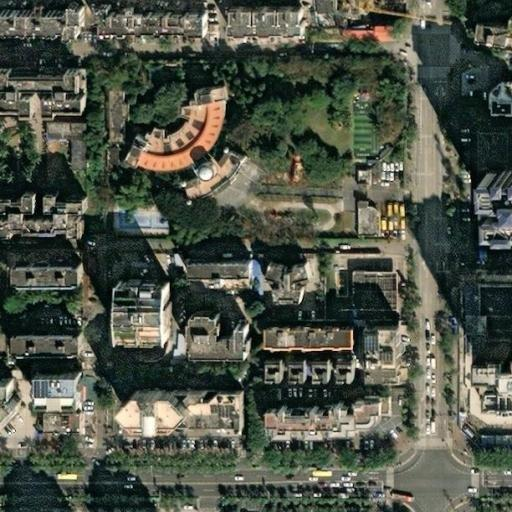building: (117, 86, 225, 167), (477, 288, 512, 413), (277, 408, 384, 446), (0, 186, 81, 235), (475, 134, 504, 248), (107, 281, 161, 342), (153, 399, 248, 432), (185, 152, 243, 206), (89, 5, 194, 32), (177, 311, 236, 354), (111, 394, 182, 429), (0, 4, 76, 36), (341, 273, 389, 316), (269, 333, 363, 354), (254, 260, 303, 300), (222, 7, 292, 34), (270, 367, 359, 387), (181, 260, 240, 286), (109, 206, 168, 232), (8, 261, 70, 283), (3, 334, 72, 353), (37, 378, 77, 410), (374, 333, 407, 371), (486, 349, 512, 397), (37, 123, 79, 139), (348, 206, 369, 236), (478, 431, 512, 449), (491, 88, 512, 117), (59, 138, 79, 168), (484, 30, 512, 51), (40, 418, 70, 437), (374, 371, 407, 388), (108, 93, 119, 141), (489, 175, 512, 197), (111, 412, 140, 424), (367, 25, 387, 41), (196, 160, 211, 174), (350, 169, 361, 184), (347, 33, 367, 41), (347, 27, 365, 33)
